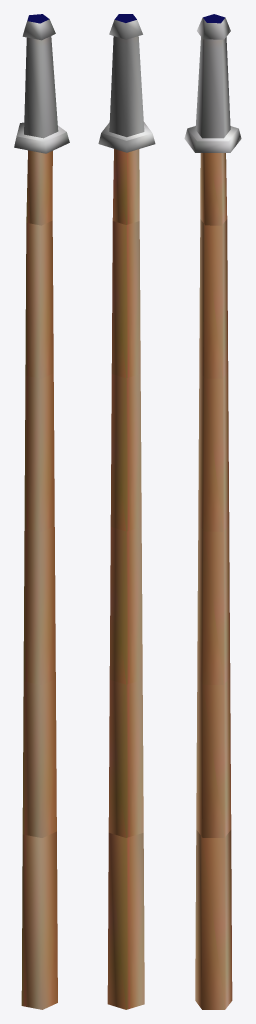
File: firehose.glb
The picture shows the model from 3 angles, left to right: view 1: azimuth 90°, elevation 25°; view 2: azimuth 150°, elevation 25°; view 3: azimuth 330°, elevation 25°; orthographic projection.
Parts seen in each view (by area): view 1: firehose; view 2: firehose; view 3: firehose.
Part boxes in pixels (<box>): firehose: <box>14,17,69,1009</box>; firehose: <box>98,19,155,1009</box>; firehose: <box>184,18,241,1009</box>.
Size of the model in its own units: 0.4426 by 8.46 by 0.4361.
Materials: 3 (2 with a texture image).
